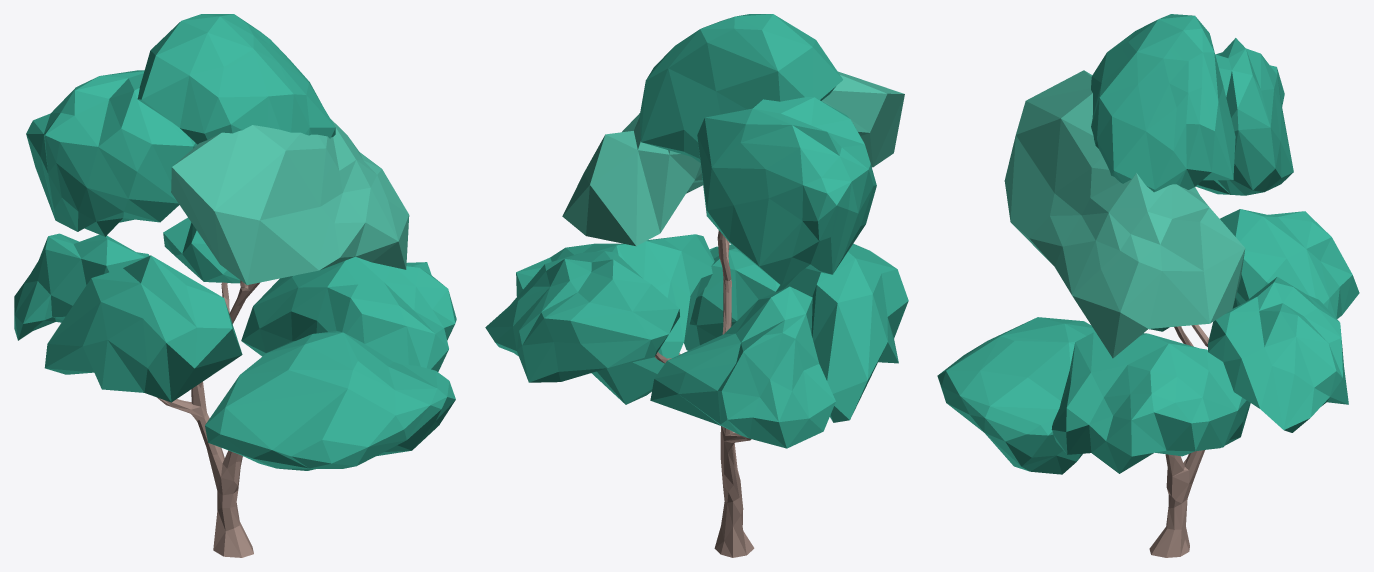
Rendered from fantasy_plant_012.fbx.
3 views of the same model, side by side, from view 1: azimuth 30°, elevation 25°; view 2: azimuth 150°, elevation 25°; view 3: azimuth 270°, elevation 25° (orthographic). The views are drawn at different scales.
Parts seen in each view (by area): view 1: fantasy_plant.012; view 2: fantasy_plant.012; view 3: fantasy_plant.012.
Part boxes in pixels (bbox=[...]): fantasy_plant.012: bbox=[14, 14, 456, 557]; fantasy_plant.012: bbox=[485, 14, 908, 557]; fantasy_plant.012: bbox=[937, 14, 1359, 557].
Bounding box in the file's own units: 1056 × 1467 × 1087.
1 material, 1 textured.
